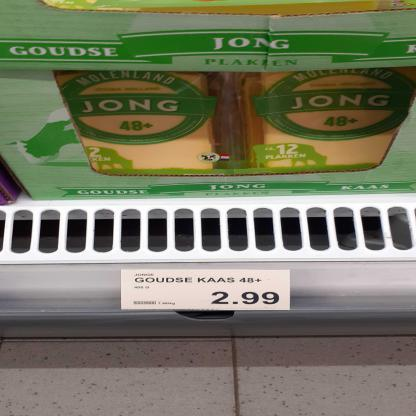prtg: (121, 271, 291, 311)
